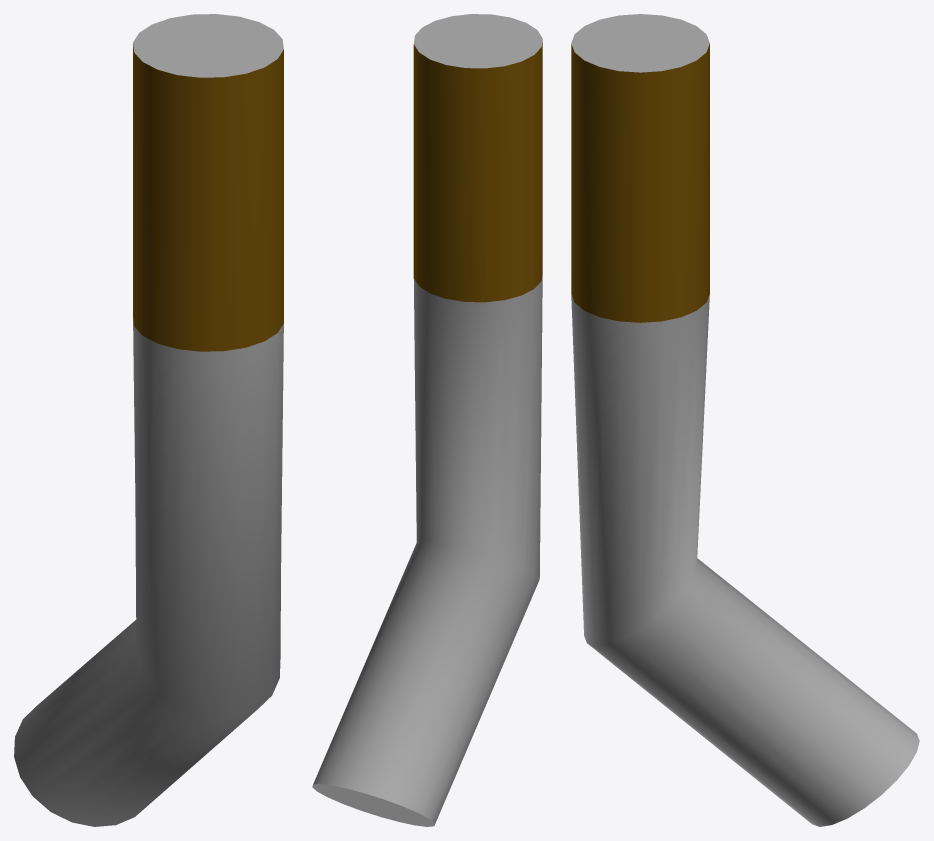
File: tabako.fbx
3 views of the same model, side by side, from view 1: azimuth 30°, elevation 25°; view 2: azimuth 150°, elevation 25°; view 3: azimuth 270°, elevation 25° (orthographic). The views are drawn at different scales.
Visible parts, largest first — view 1: pCylinder1; view 2: pCylinder1; view 3: pCylinder1.
Part boxes in pixels (x1,y1,x2,y2): pCylinder1: (14, 14, 283, 826); pCylinder1: (312, 14, 542, 826); pCylinder1: (571, 14, 919, 826).
Size of the model in its own units: 2 by 12.31 by 5.03.
